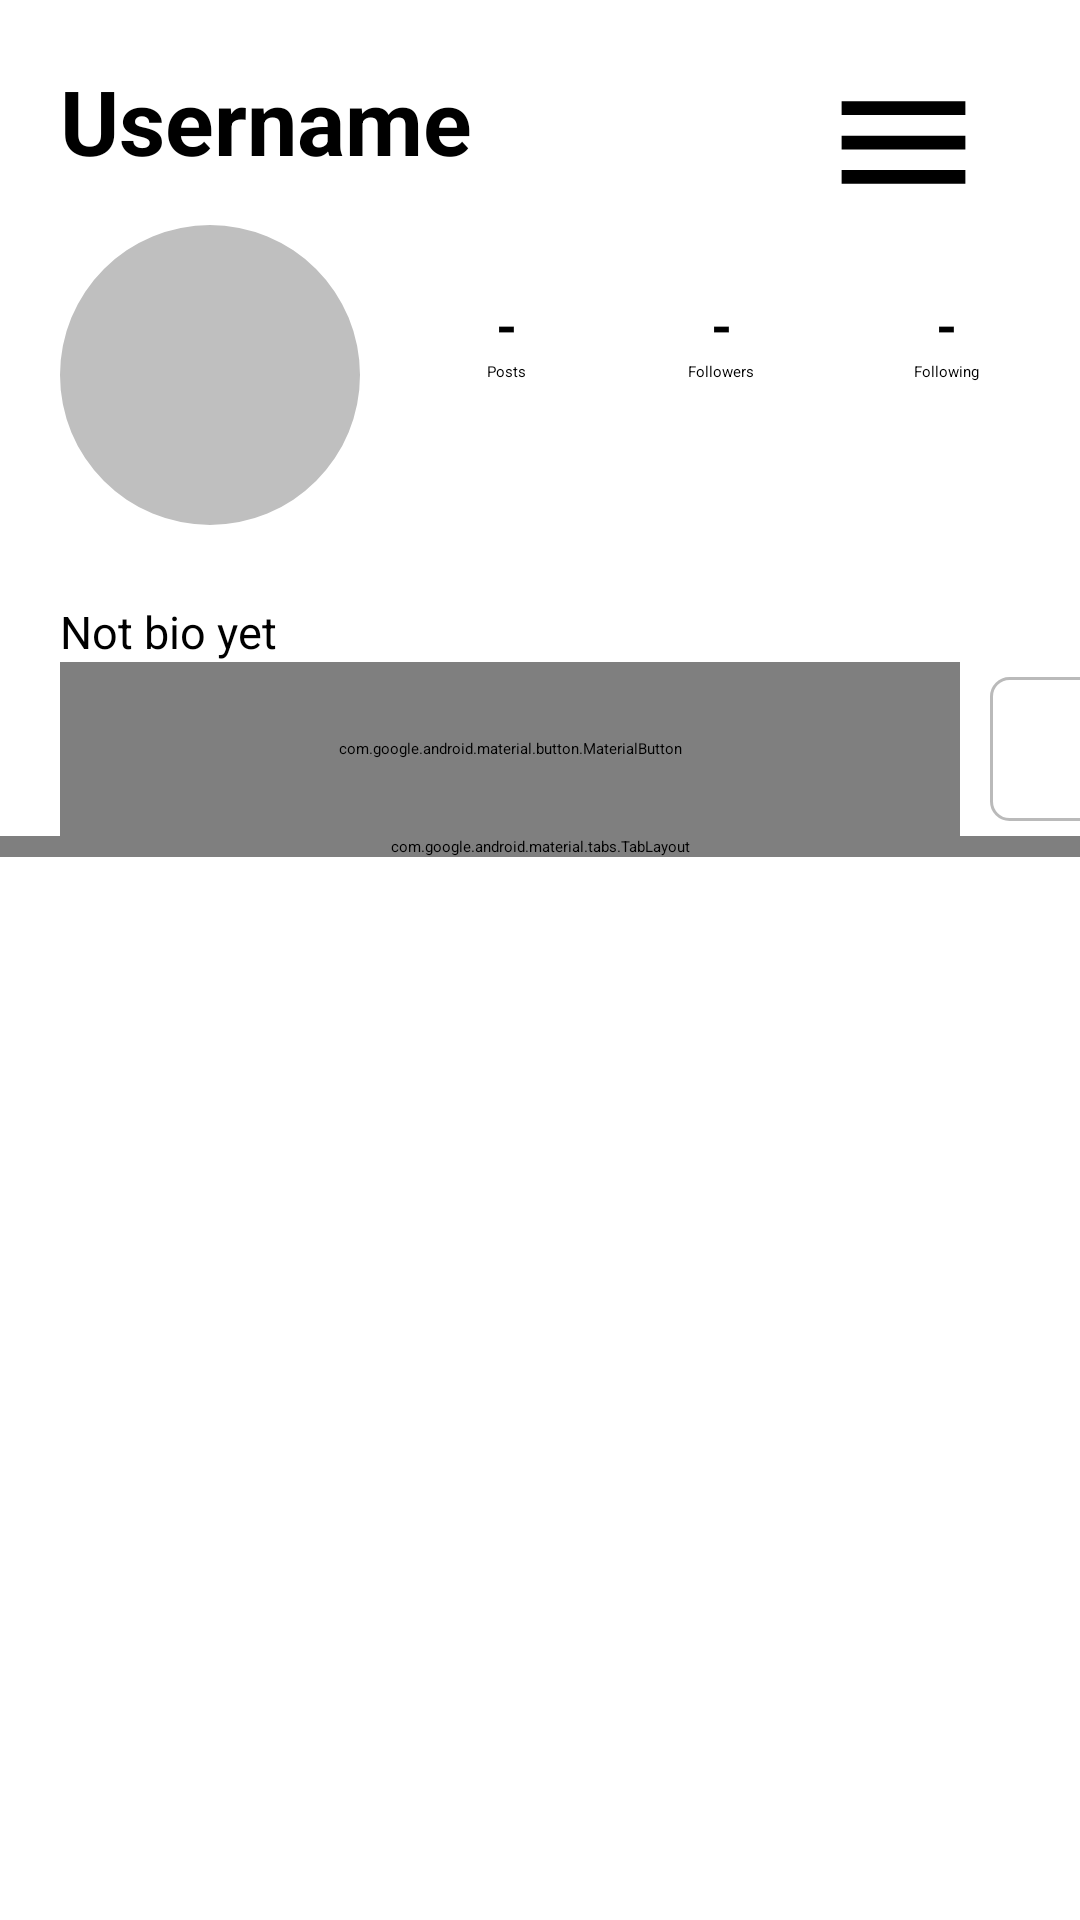

Point at icon controls on the screen. Image size 1080w x 1920h, points as (x,y).
Profile menu: (903,142)
